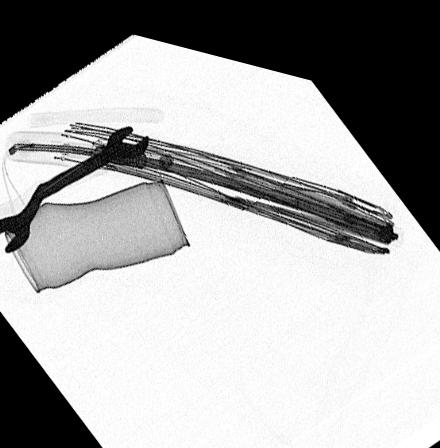Wrench: (0, 117, 149, 253)
